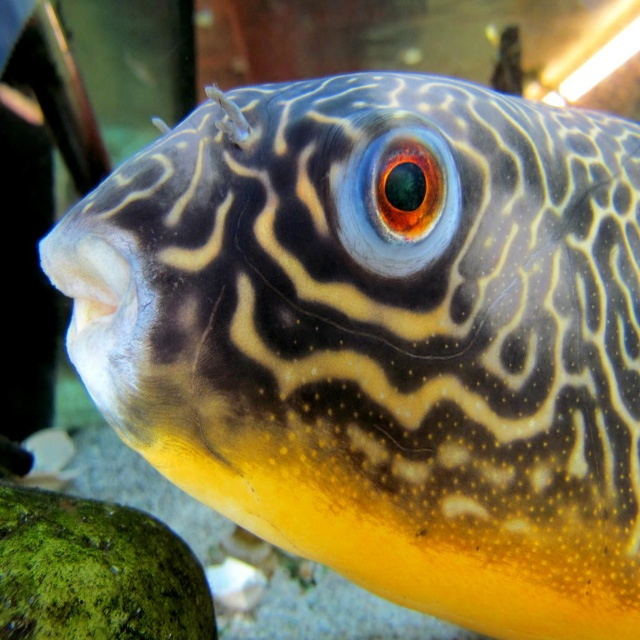Fish: (39, 70, 640, 639)
